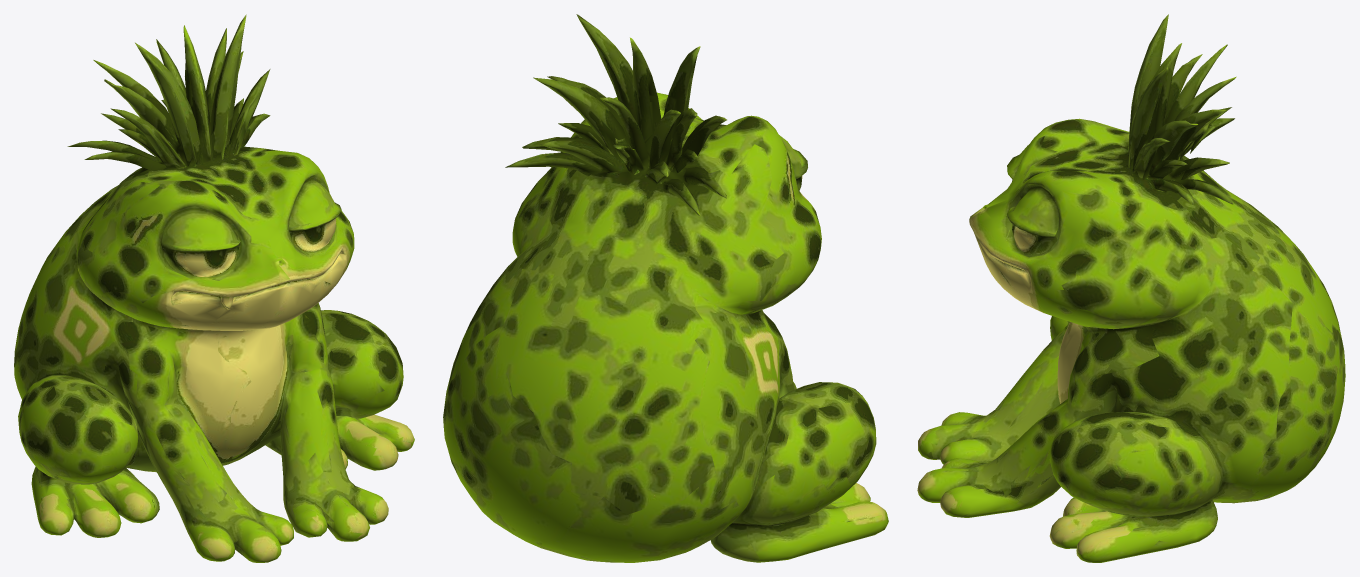
The model's file is grenouille-couvee-b.glb.
The picture shows the model from 3 angles, left to right: view 1: azimuth 30°, elevation 25°; view 2: azimuth 150°, elevation 25°; view 3: azimuth 270°, elevation 25°; orthographic projection. The views are drawn at different scales.
Parts seen in each view (by area): view 1: grenouille; view 2: grenouille; view 3: grenouille.
Part boxes in pixels (x1=…): grenouille: x1=14, y1=14, x2=414, y2=562; grenouille: x1=443, y1=14, x2=888, y2=562; grenouille: x1=917, y1=14, x2=1345, y2=562.
Bounding box in the file's own units: 0.8891 × 1 × 0.889.
Materials: 1 (1 with a texture image).
